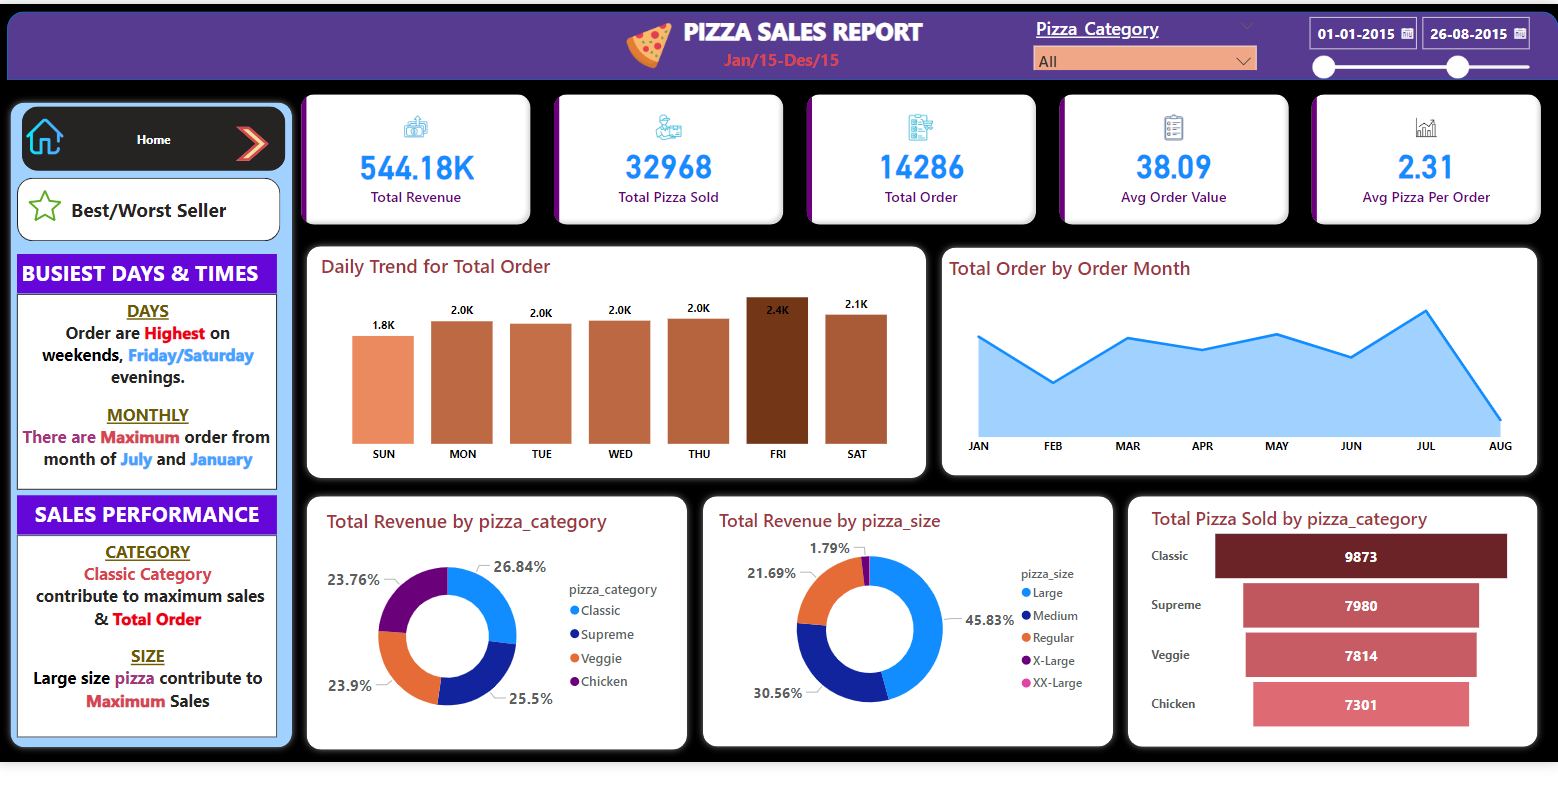

This screenshot's page, from the dashboard's own definition file:
{"tool":"powerbi","page":{"name":"Home","canvas":[1750,850],"ordinal":0},"visuals":[{"type":"shape","box":[7,101.8,331.6,738.6],"z":0},{"type":"cardVisual","fields":{"Data":["pizza_sales_excel_file1.Total Revenue","pizza_sales_excel_file1.Total Pizza Sold","pizza_sales_excel_file1.Total Order","pizza_sales_excel_file1.Avg Order Value","pizza_sales_excel_file1.Avg Pizza Per Order"]},"box":[325,85,1425,178.3],"z":1000},{"type":"shape","box":[11.4,8.6,1738.6,77.1],"z":2000},{"type":"textbox","box":[742.9,7.1,318.6,57.1],"z":3000,"group":"g4"},{"type":"shape","box":[782.5,543.9,475.4,296.5],"z":3000},{"type":"textbox","box":[808.1,44.5,165,40],"z":4000,"group":"g4"},{"type":"shape","box":[1258.3,543.3,475,296.7],"z":4000},{"type":"image","box":[694.3,15.7,71.4,62.9],"z":5000,"group":"g3"},{"type":"shape","box":[339,263.9,710,275.7],"z":5000,"group":"g1"},{"type":"donutChart","fields":{"Y":["pizza_sales_excel_file1.Total Revenue"],"Series":["pizza_sales_excel_file1.pizza_size"]},"box":[803.5,564.9,433.3,250.9],"z":5000},{"type":"group","id":"g1","title":"Group 2","box":[339,263.9,710,275.7],"z":6000},{"type":"columnChart","title":"Daily Trend for Total Order","fields":{"Category":["pizza_sales_excel_file1.Order Day"],"Y":["pizza_sales_excel_file1.Total Order"]},"box":[363,279.7,671.4,244.3],"z":6000,"group":"g1"},{"type":"shape","box":[1050,264.7,683.3,271.7],"z":7000,"group":"g5"},{"type":"group","id":"g2","title":"Group 3","box":[338.3,543.3,443.3,300],"z":7000},{"type":"areaChart","fields":{"Y":["pizza_sales_excel_file1.Total Order"],"Category":["pizza_sales_excel_file1.Order Month"]},"box":[1061.8,280.6,661.4,234.3],"z":8000,"group":"g5"},{"type":"funnel","fields":{"Category":["pizza_sales_excel_file1.pizza_category"],"Y":["pizza_sales_excel_file1.Total Pizza Sold"]},"box":[1288.3,561.7,416.7,258.3],"z":8000},{"type":"textbox","box":[22.8,280.7,291.2,43.9],"z":9000},{"type":"shape","box":[338.3,543.3,442.1,300],"z":9000,"group":"g2"},{"type":"textbox","box":[22.8,324.6,291.2,219.3],"z":10000},{"type":"textbox","box":[22.8,594.7,291.2,226.3],"z":11000},{"type":"donutChart","fields":{"Category":["pizza_sales_excel_file1.pizza_category"],"Y":["pizza_sales_excel_file1.Total Revenue"]},"box":[363.1,564.4,403.5,259.6],"z":11001,"group":"g2"},{"type":"textbox","box":[22.8,550.9,291.2,43.9],"z":12000},{"type":"slicer","fields":{"Values":["pizza_sales_excel_file1.pizza_category"]},"box":[1151.4,8.6,270,65.7],"z":13000},{"type":"pageNavigator","box":[28.6,114.3,295.7,72.9],"z":14000},{"type":"slicer","fields":{"Values":["pizza_sales_excel_file1.order_date"]},"box":[1458.6,4.3,280,100],"z":15000},{"type":"pageNavigator","box":[22.9,194.3,295.7,71.4],"z":16000},{"type":"shape","box":[267.1,137.1,37.1,38.6],"z":17000},{"type":"group","id":"g3","title":"Group 5","box":[694.3,7.1,367.1,77.1],"z":18000},{"type":"group","id":"g4","title":"Group 4","box":[742.9,7.1,318.6,77.1],"z":18004,"group":"g3"},{"type":"image","box":[28.6,114.3,51.4,67.1],"z":19000},{"type":"image","box":[31.4,185.7,45.7,78.6],"z":20000},{"type":"group","id":"g5","title":"Group 1","box":[1050,264.7,683.3,271.7],"z":21000}]}

Visuals, with their boxes on the page's 1750x850 design canvas (x1, y1, x2, y2). These are canvas units, not pixel positions in the 1558x786 screenshot, which may show the page scaled, cropped or inside an application window:
shape: select_region(7, 102, 339, 840)
cardVisual - pizza_sales_excel_file1.Total Revenue x pizza_sales_excel_file1.Total Pizza Sold: select_region(325, 85, 1750, 263)
shape: select_region(11, 9, 1750, 86)
textbox: select_region(743, 7, 1062, 64)
shape: select_region(782, 544, 1258, 840)
textbox: select_region(808, 44, 973, 84)
shape: select_region(1258, 543, 1733, 840)
image: select_region(694, 16, 766, 79)
shape: select_region(339, 264, 1049, 540)
donutChart - pizza_sales_excel_file1.Total Revenue x pizza_sales_excel_file1.pizza_size: select_region(804, 565, 1237, 816)
"Group 2" group: select_region(339, 264, 1049, 540)
"Daily Trend for Total Order" columnChart: select_region(363, 280, 1034, 524)
shape: select_region(1050, 265, 1733, 536)
"Group 3" group: select_region(338, 543, 782, 843)
areaChart - pizza_sales_excel_file1.Total Order x pizza_sales_excel_file1.Order Month: select_region(1062, 281, 1723, 515)
funnel - pizza_sales_excel_file1.pizza_category x pizza_sales_excel_file1.Total Pizza Sold: select_region(1288, 562, 1705, 820)
textbox: select_region(23, 281, 314, 325)
shape: select_region(338, 543, 780, 843)
textbox: select_region(23, 325, 314, 544)
textbox: select_region(23, 595, 314, 821)
donutChart - pizza_sales_excel_file1.pizza_category x pizza_sales_excel_file1.Total Revenue: select_region(363, 564, 767, 824)
textbox: select_region(23, 551, 314, 595)
slicer - pizza_sales_excel_file1.pizza_category: select_region(1151, 9, 1421, 74)
pageNavigator: select_region(29, 114, 324, 187)
slicer - pizza_sales_excel_file1.order_date: select_region(1459, 4, 1739, 104)
pageNavigator: select_region(23, 194, 319, 266)
shape: select_region(267, 137, 304, 176)
"Group 5" group: select_region(694, 7, 1061, 84)
"Group 4" group: select_region(743, 7, 1062, 84)
image: select_region(29, 114, 80, 181)
image: select_region(31, 186, 77, 264)
"Group 1" group: select_region(1050, 265, 1733, 536)
